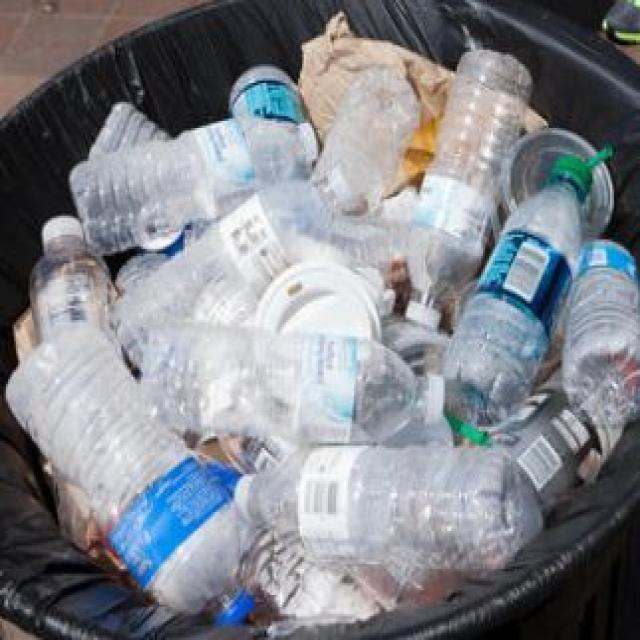general: (437, 140, 614, 415), (217, 436, 558, 560), (408, 45, 534, 294), (26, 213, 115, 344), (227, 62, 318, 187)
